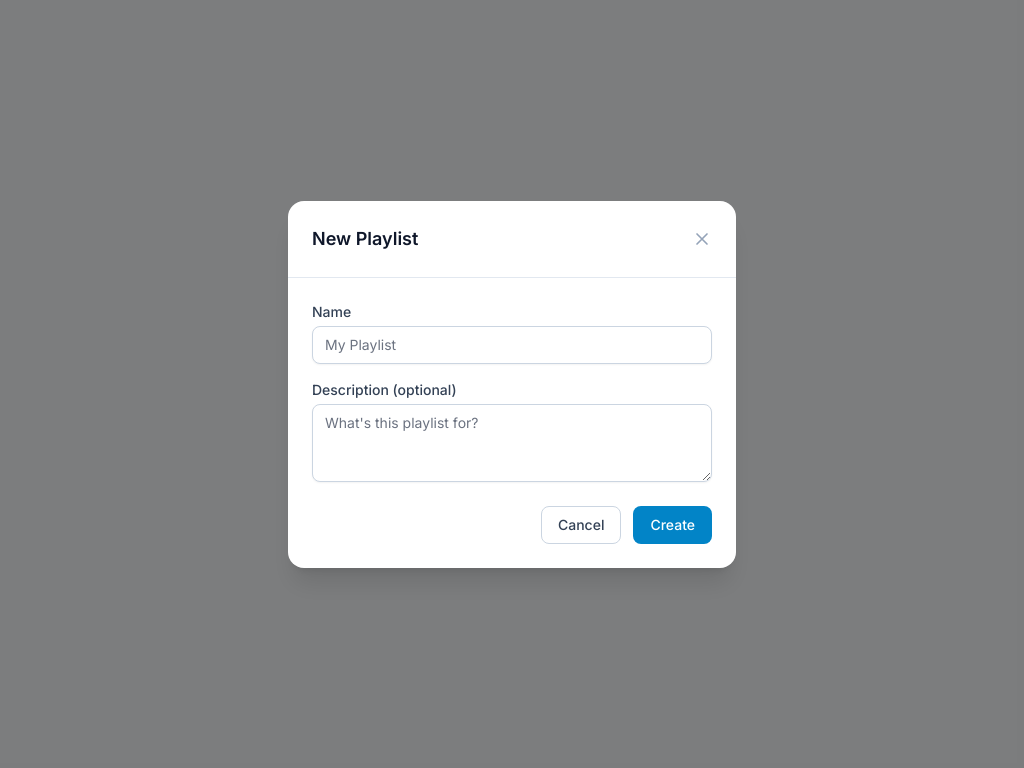
Test: CreatePlaylistModal › error handling › shows api error message when store.create fails
Type "Dupe" into the field labelled "Name".
click(512, 344); type("Dupe")  # box top-left (312, 326), bottom-right (712, 364)
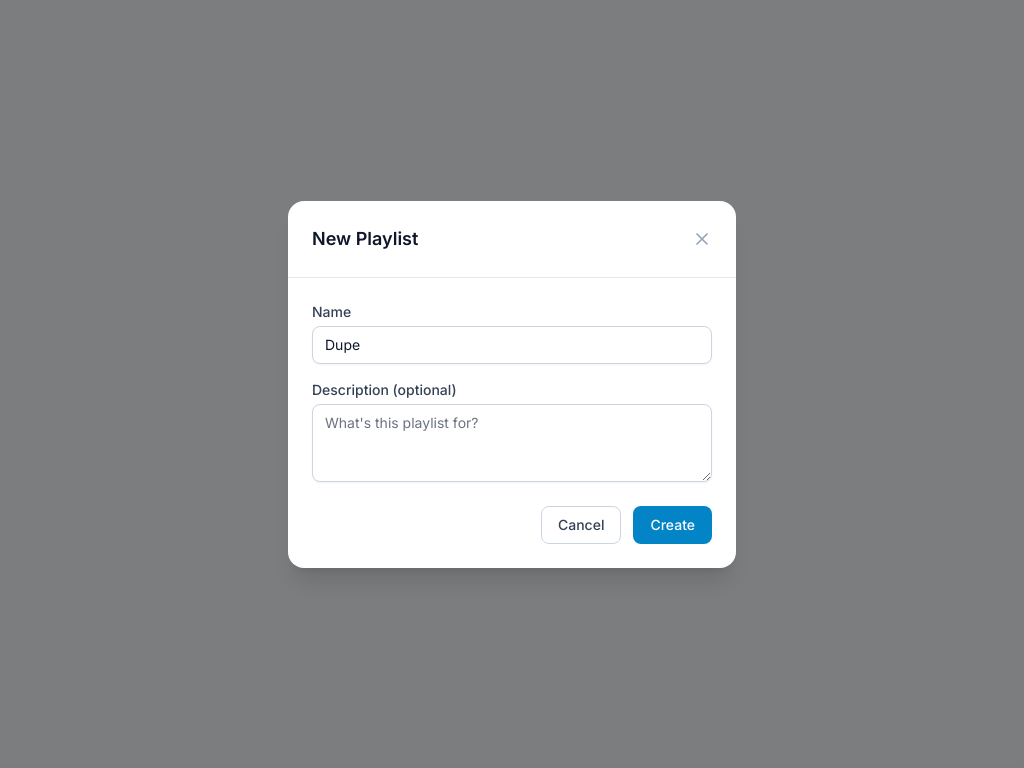
Submit the form, box top-left (288, 278), bottom-right (736, 568)
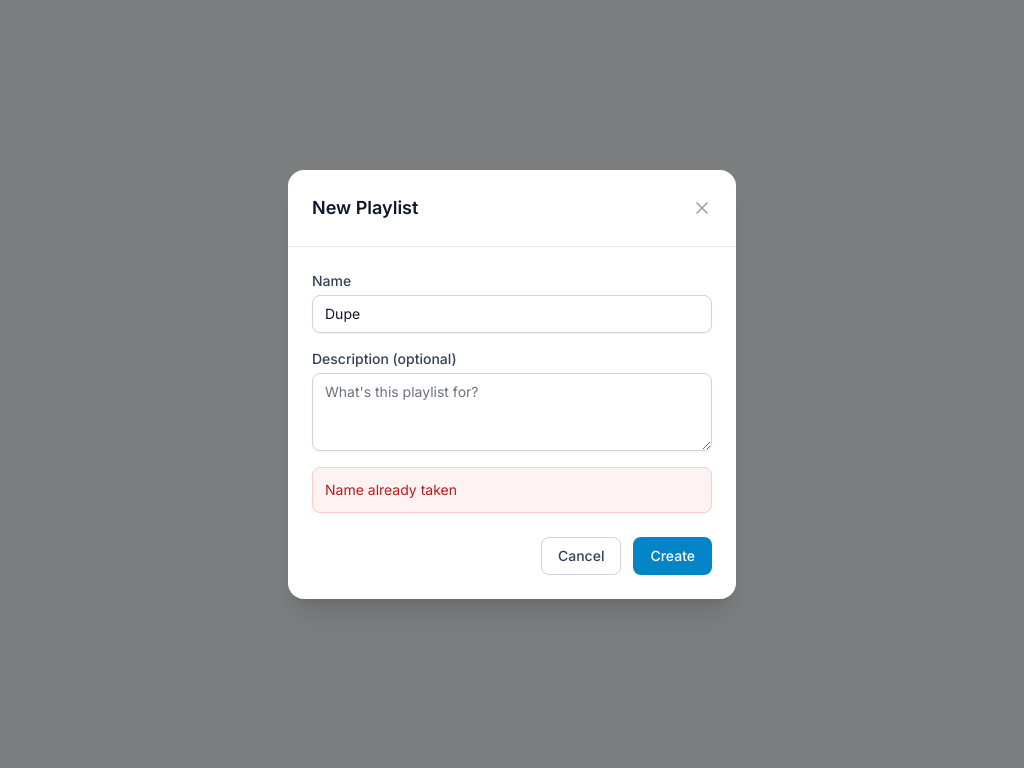
Expected: the text "Name already taken" is shown, top-left (312, 466), bottom-right (712, 512)
